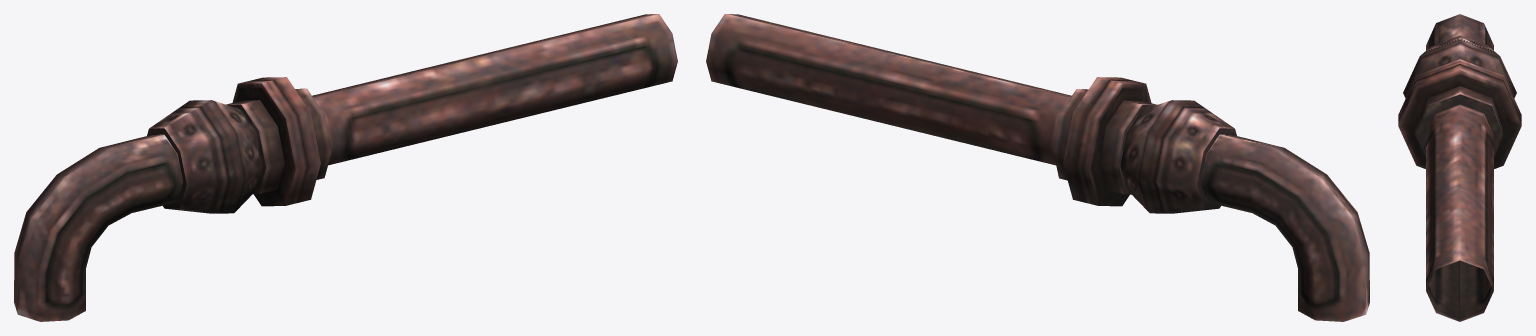
The model's file is SM_zhucheng_guandao.FBX.
3 renders of one model, left to right at view 1: azimuth 30°, elevation 25°; view 2: azimuth 150°, elevation 25°; view 3: azimuth 270°, elevation 25°, orthographic. The views are drawn at different scales.
Visible parts, largest first — view 1: SM_zhucheng_guandao04, SM_zhucheng_guandao01, SM_zhucheng_guandao02, SM_zhucheng_guandao03; view 2: SM_zhucheng_guandao04, SM_zhucheng_guandao01, SM_zhucheng_guandao02, SM_zhucheng_guandao03; view 3: SM_zhucheng_guandao04, SM_zhucheng_guandao03, SM_zhucheng_guandao02, SM_zhucheng_guandao01.
Boxes of the visible parts, bbox=[...] form: SM_zhucheng_guandao04: bbox=[312, 14, 677, 165]; SM_zhucheng_guandao01: bbox=[14, 134, 183, 321]; SM_zhucheng_guandao02: bbox=[147, 100, 263, 213]; SM_zhucheng_guandao03: bbox=[226, 77, 331, 206]; SM_zhucheng_guandao04: bbox=[706, 14, 1071, 165]; SM_zhucheng_guandao01: bbox=[1200, 134, 1369, 321]; SM_zhucheng_guandao02: bbox=[1120, 100, 1236, 213]; SM_zhucheng_guandao03: bbox=[1053, 77, 1156, 206]; SM_zhucheng_guandao04: bbox=[1426, 104, 1493, 321]; SM_zhucheng_guandao03: bbox=[1398, 59, 1521, 168]; SM_zhucheng_guandao02: bbox=[1403, 35, 1516, 98]; SM_zhucheng_guandao01: bbox=[1426, 14, 1493, 50].
Bounding box in the file's own units: 527 × 135 × 96.6.
